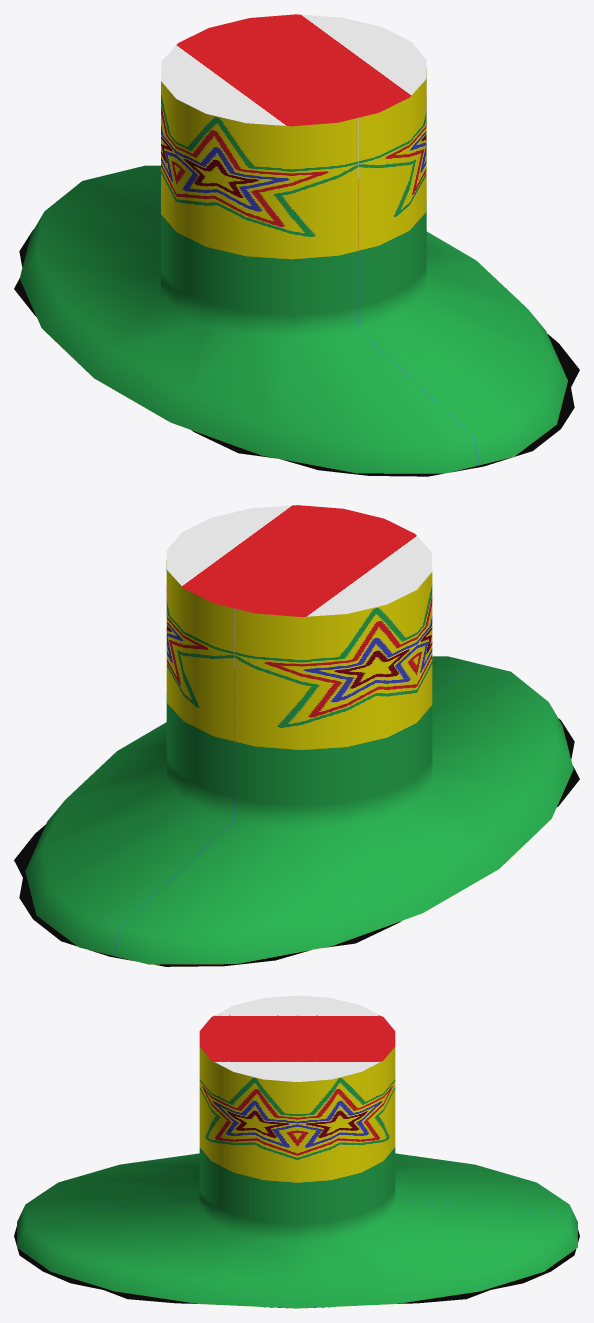
File: hat2.FBX
3 views of the same model, one above another, from view 1: azimuth 30°, elevation 25°; view 2: azimuth 150°, elevation 25°; view 3: azimuth 270°, elevation 25° (orthographic). The views are drawn at different scales.
Visible parts, largest first — view 1: Cylinder001, Cylinder002; view 2: Cylinder001, Cylinder002; view 3: Cylinder001, Cylinder002.
Boxes of the visible parts, left/top/right/bottom form: Cylinder001: left=19, top=14, right=567, bottom=473; Cylinder002: left=14, top=229, right=579, bottom=476; Cylinder001: left=25, top=505, right=573, bottom=964; Cylinder002: left=14, top=718, right=579, bottom=966; Cylinder001: left=17, top=995, right=577, bottom=1308; Cylinder002: left=14, top=1226, right=579, bottom=1308.
Bounding box in the file's own units: 67.25 × 41.73 × 109.
2 materials, 1 textured.
